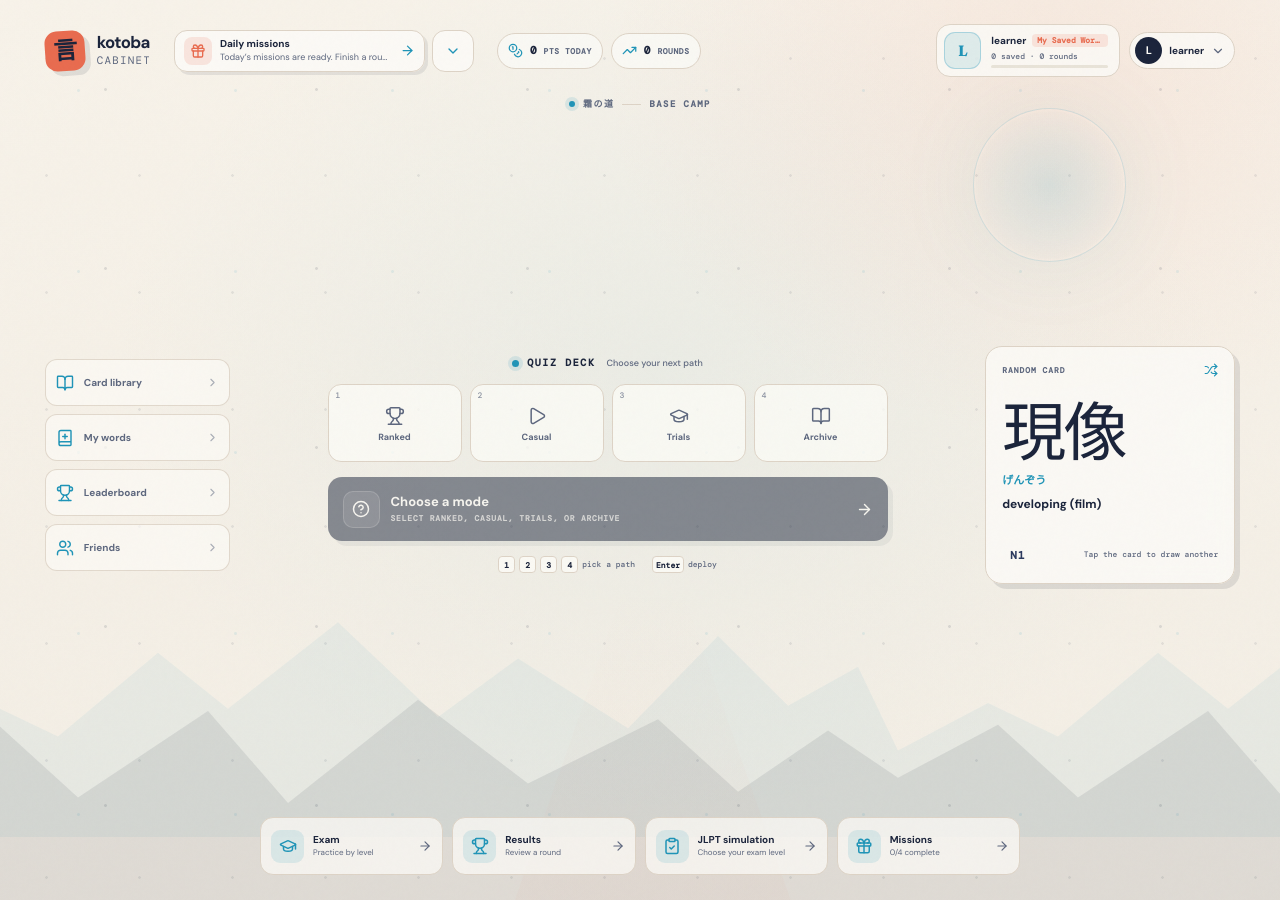
Test case: Winter Archive lobby › keeps the deleted Cabinet/More dock controls and menu bonus card removed
Step 1. Click the button with test id "button-home-menu" → (65, 51), box [44, 29, 86, 72]
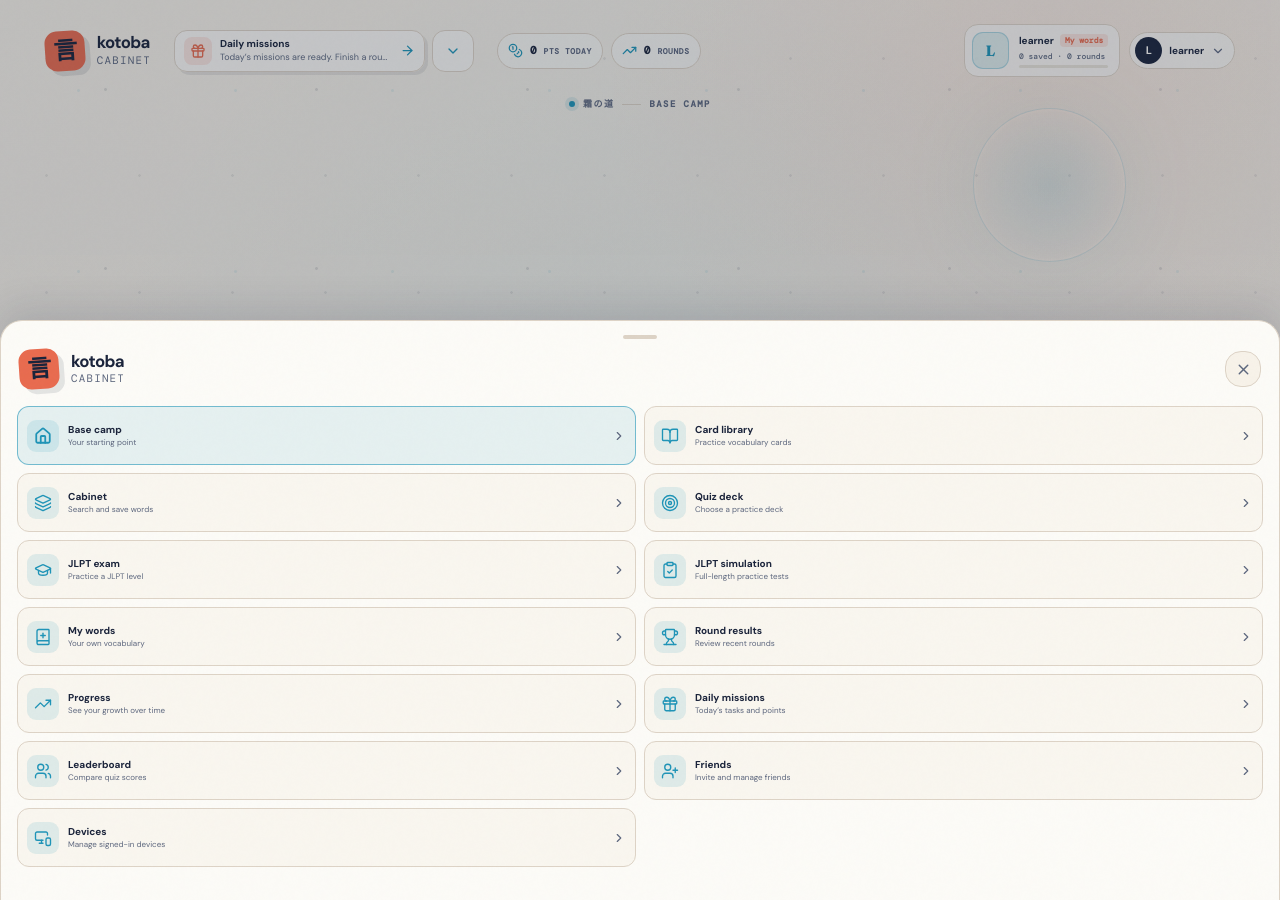
Result: the dialog named "Menu" is shown
